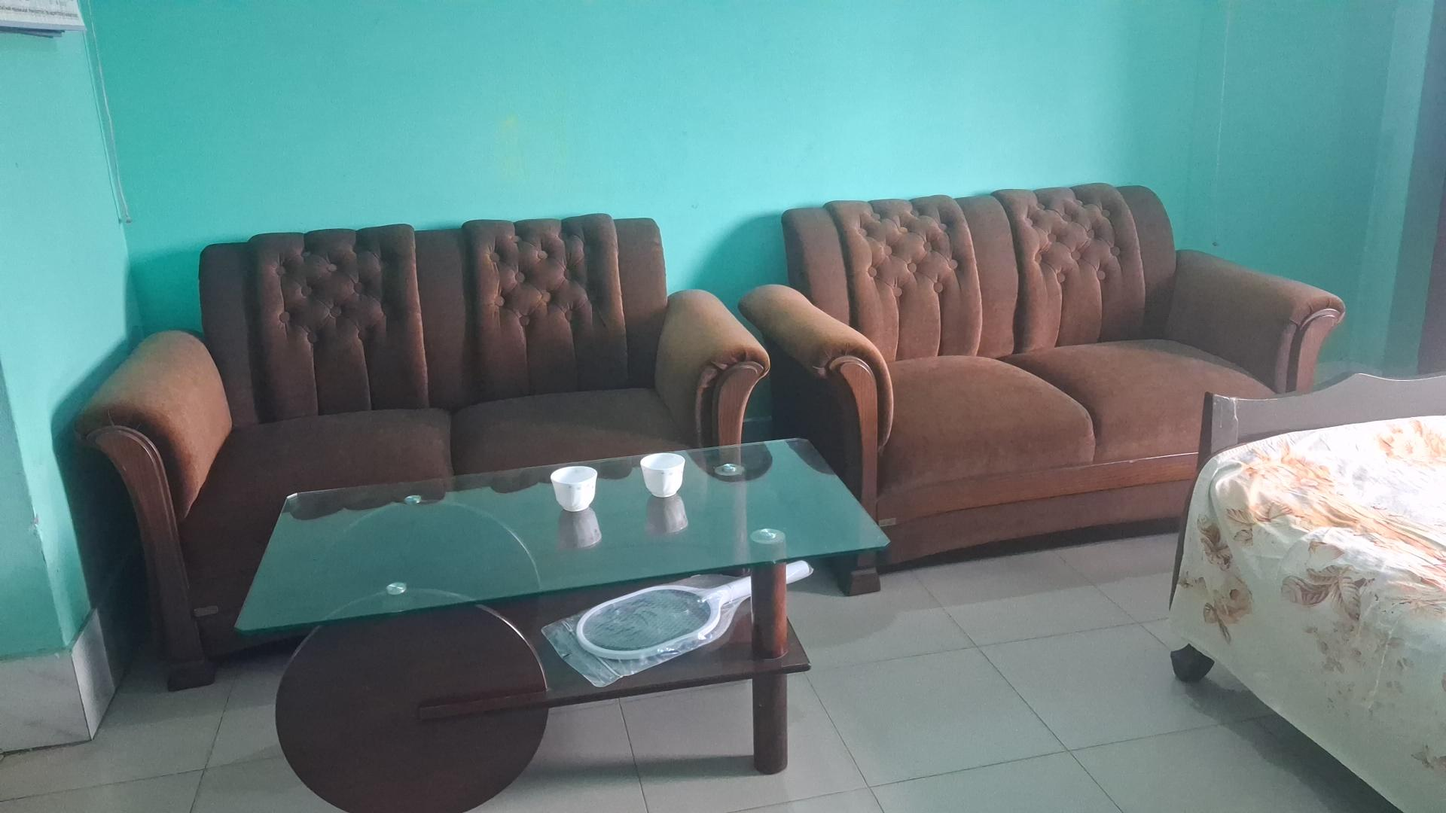Cup: (545, 466, 600, 514), (640, 452, 690, 500)
Table: (239, 435, 889, 808)
